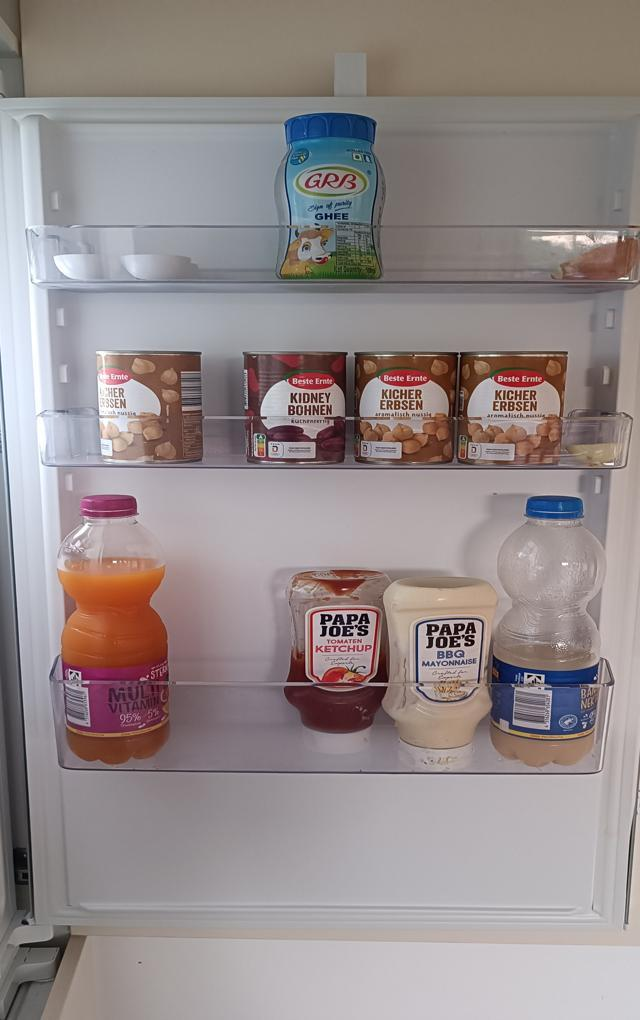bananajuice: (499, 493, 600, 771)
chickpeas: (93, 351, 202, 468), (459, 349, 565, 464), (354, 354, 455, 467)
ghee: (272, 109, 386, 282)
kidneybeans: (242, 350, 343, 467)
mayoniasie: (384, 573, 494, 762)
orangejuice: (57, 492, 172, 766)
tomatoketchup: (287, 570, 392, 750)
